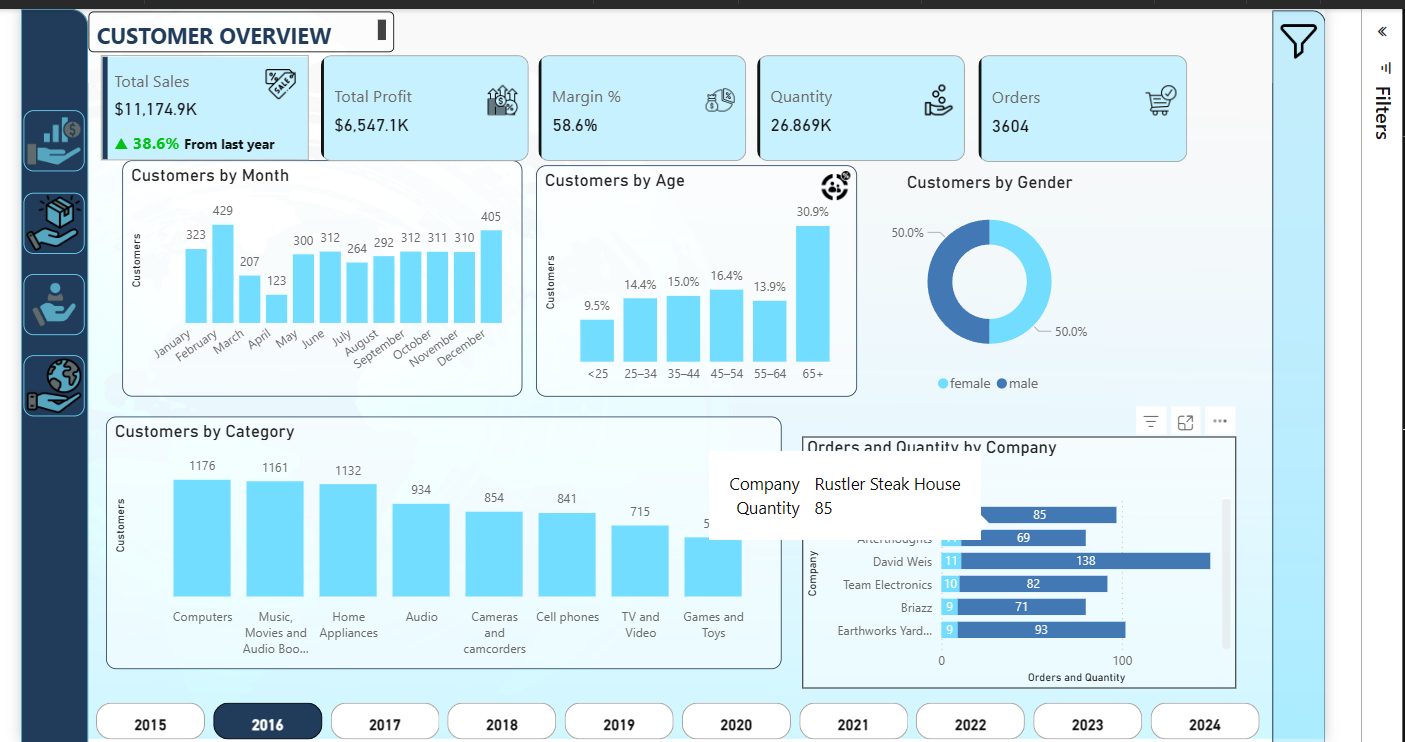

What the dashboard file says about the page in this screenshot:
{"tool":"powerbi","page":{"name":"Customer","canvas":[1280,720],"ordinal":3},"visuals":[{"type":"shape","title":"DarkBluebanner","box":[0,0,66,720.7],"z":0,"group":"g1"},{"type":"columnChart","fields":{"Category":["Customer.AgeBand Measure"],"Y":["01Measures.Customers"]},"box":[547.9,160.2,304.3,226.2],"z":0},{"type":"shape","box":[1227.9,1.3,52.4,719.3],"z":1000},{"type":"image","title":"Location","box":[3,340,60,60],"z":1000,"group":"g1"},{"type":"image","box":[779.1,153.4,41.7,40.5],"z":2000},{"type":"image","title":"Customer","box":[3,260,60,60],"z":2000,"group":"g1"},{"type":"image","title":"Sales","box":[3,100,60,60],"z":3000,"group":"g1"},{"type":"donutChart","fields":{"Y":["01Measures.Customers"],"Category":["Customer.Gender"]},"box":[569.5,401.2,262.5,246.4],"z":3000},{"type":"image","title":"Product","box":[3,180,60,60],"z":4000,"group":"g1"},{"type":"tableEx","fields":{"Values":["Customer.Company","01Measures.TopN Customers by Companie"]},"box":[884.5,247.7,313.7,399.8],"z":4000},{"type":"image","title":"Logo","box":[1.3,21.7,63.9,63.9],"z":4500,"group":"g1"},{"type":"columnChart","fields":{"Y":["01Measures.Customers"],"Category":["Date.Date Hierarchy.Month"],"Series":["Sales.CustomerType"]},"box":[83.3,160,405,231.7],"z":5000},{"type":"columnChart","fields":{"Category":["Product.CategoryName"],"Y":["01Measures.Customers"]},"box":[83.5,399.8,447,247.7],"z":6000},{"type":"advancedSlicerVisual","fields":{"Values":["Date.Year"]},"box":[74,669.1,1153.7,41.7],"z":7000},{"type":"cardVisual","title":"Profit ","fields":{"Data":["01Measures.Total Profit"]},"box":[289,40.6,214.7,115],"z":8000},{"type":"cardVisual","title":"Margin","fields":{"Data":["01Measures.Margin %"]},"box":[503.7,40.6,214.7,115],"z":9000},{"type":"cardVisual","title":"Quantity","fields":{"Data":["01Measures.Quantity"]},"box":[718.3,40.6,214.7,115],"z":10000},{"type":"cardVisual","title":"Order","fields":{"Data":["01Measures.Orders"]},"box":[935,40.1,215,115],"z":11000},{"type":"textbox","box":[80,1.7,265,40],"z":12000},{"type":"image","box":[1227.9,2.6,52.4,57.5],"z":13000},{"type":"group","id":"g1","title":"Navigation Pane","box":[0,0,66,720.7],"z":14000},{"type":"cardVisual","title":"Total Sales","fields":{"Data":["01Measures.Customers"]},"box":[75,40.9,214.7,113.7],"z":15000},{"type":"slicer","fields":{"Values":["TopN.TopN"]},"box":[884.5,160.2,109,75.4],"z":16000}]}

Visuals, with their boxes on the page's 1280x720 design canvas (x1, y1, x2, y2). These are canvas units, not pixel positions in the 1405x742 screenshot, which may show the page scaled, cropped or inside an application window:
"DarkBluebanner" shape: 0 0 66 721
columnChart - Customer.AgeBand Measure x 01Measures.Customers: 548 160 852 386
shape: 1228 1 1280 721
"Location" image: 3 340 63 400
image: 779 153 821 194
"Customer" image: 3 260 63 320
"Sales" image: 3 100 63 160
donutChart - 01Measures.Customers x Customer.Gender: 570 401 832 648
"Product" image: 3 180 63 240
tableEx - Customer.Company x 01Measures.TopN Customers by Companie: 884 248 1198 648
"Logo" image: 1 22 65 86
columnChart - 01Measures.Customers x Date.Date Hierarchy.Month: 83 160 488 392
columnChart - Product.CategoryName x 01Measures.Customers: 84 400 530 648
advancedSlicerVisual - Date.Year: 74 669 1228 711
"Profit " cardVisual: 289 41 504 156
"Margin" cardVisual: 504 41 718 156
"Quantity" cardVisual: 718 41 933 156
"Order" cardVisual: 935 40 1150 155
textbox: 80 2 345 42
image: 1228 3 1280 60
"Navigation Pane" group: 0 0 66 721
"Total Sales" cardVisual: 75 41 290 155
slicer - TopN.TopN: 884 160 994 236
